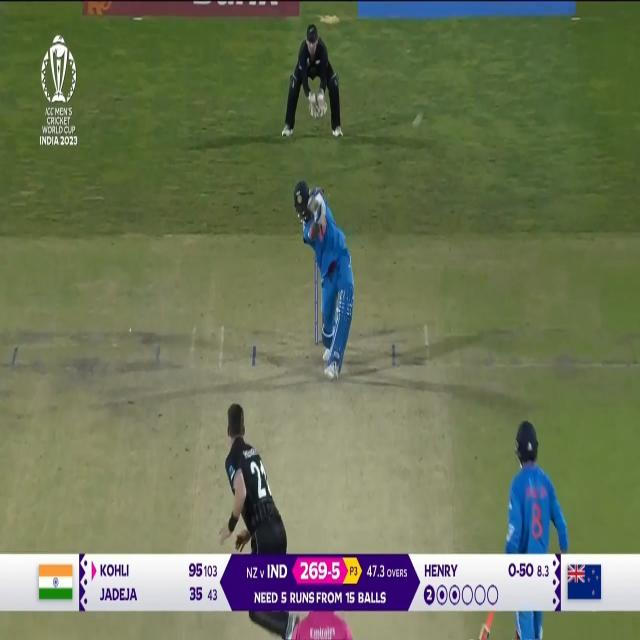ball: (408, 107, 428, 135)
